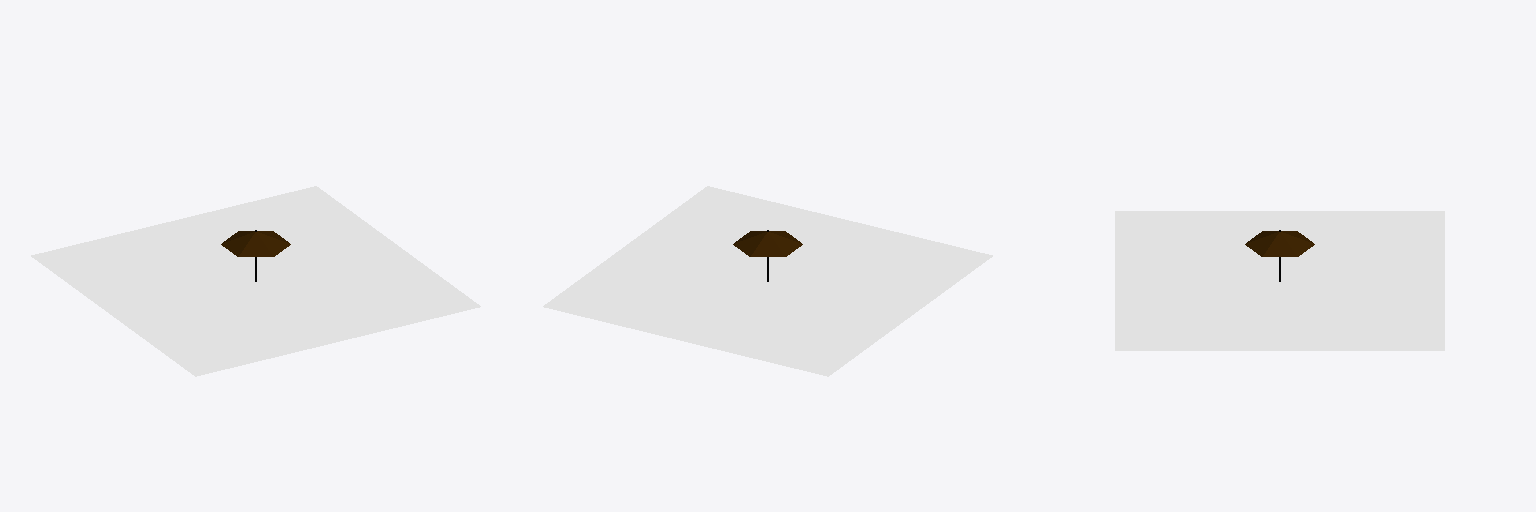
File: Umbrella.obj
3 renders of one model, left to right at view 1: azimuth 30°, elevation 25°; view 2: azimuth 150°, elevation 25°; view 3: azimuth 270°, elevation 25°, orthographic.
Parts seen in each view (by area): view 1: Plane, Cone; view 2: Plane, Cone; view 3: Plane, Cone.
Boxes of the visible parts, x1=… form: Plane: x1=31, y1=186, x2=480, y2=376; Cone: x1=221, y1=231, x2=290, y2=256; Plane: x1=543, y1=186, x2=992, y2=376; Cone: x1=733, y1=231, x2=802, y2=256; Plane: x1=1115, y1=211, x2=1444, y2=350; Cone: x1=1245, y1=231, x2=1314, y2=256.
Size of the model in its own units: 37.15 by 6.29 by 37.15.